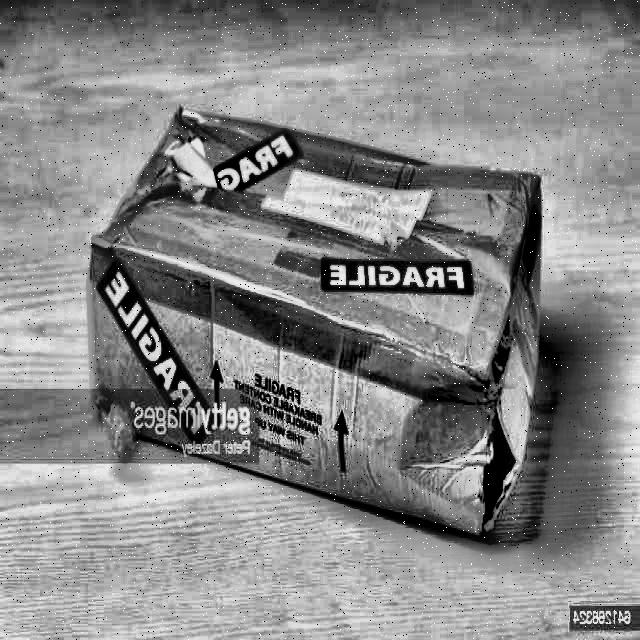box: (77, 98, 561, 547)
hole: (475, 409, 517, 527)
